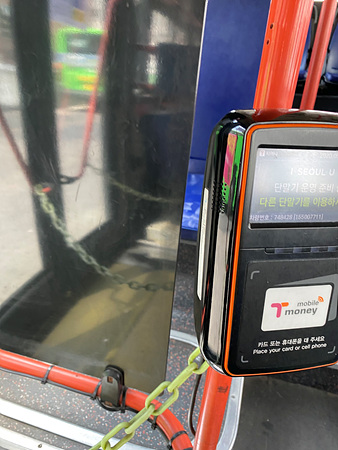terminal: (225, 105, 338, 372)
